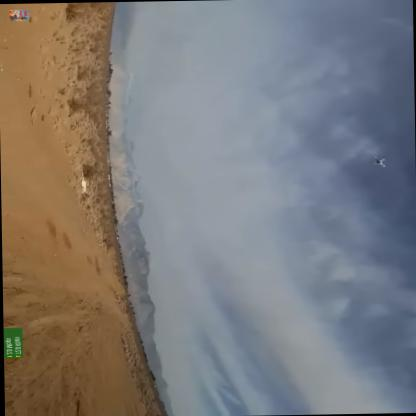drone: (367, 153, 391, 171)
